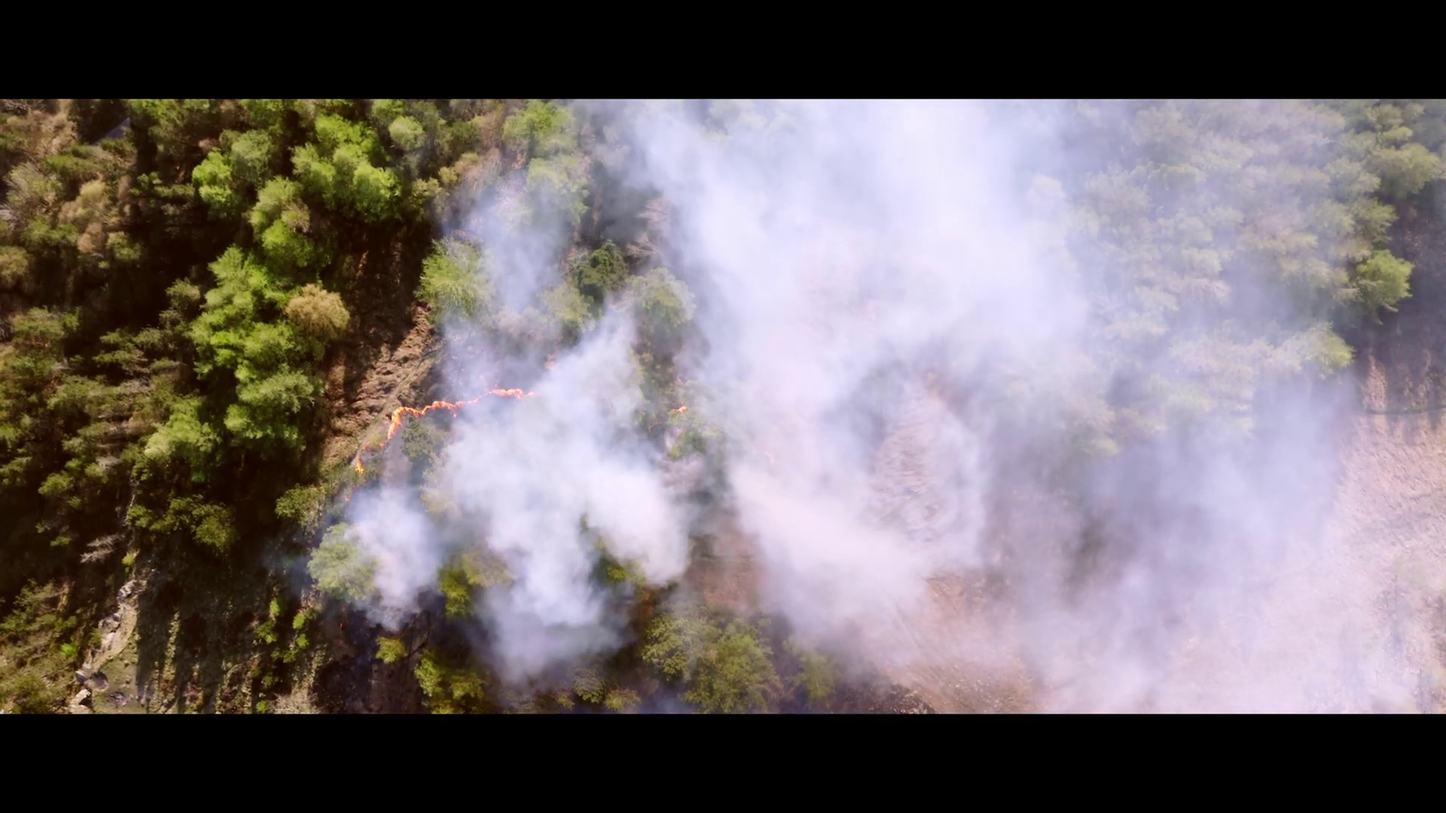forest_fire: (386, 388, 535, 441)
